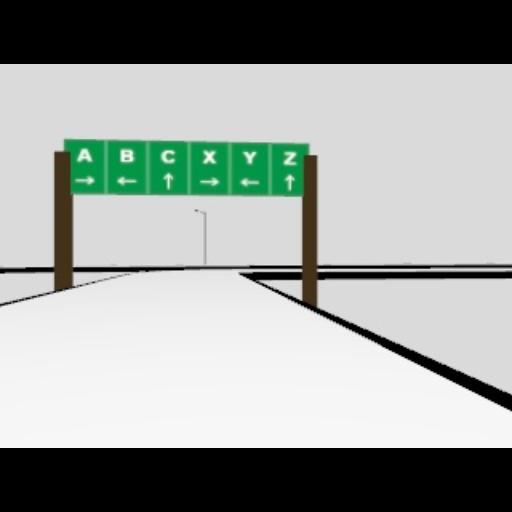A: (75, 147, 91, 161)
B: (120, 147, 132, 161)
C: (160, 149, 174, 163)
Left: (237, 176, 261, 188), (115, 176, 137, 186)
Right: (198, 176, 220, 186), (74, 176, 96, 184)
Straight: (162, 171, 172, 189), (284, 173, 294, 191)
X: (202, 149, 216, 163)
Y: (242, 150, 256, 164)
Z: (283, 151, 297, 165)
